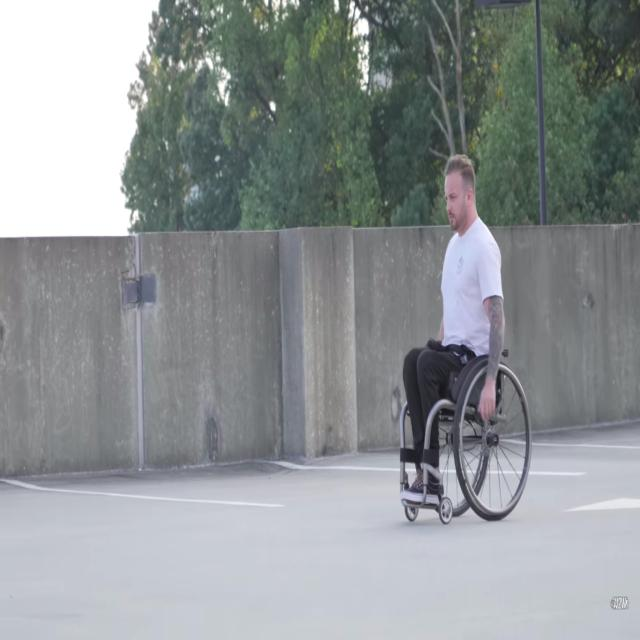wheelchairs: (395, 338, 535, 527)
